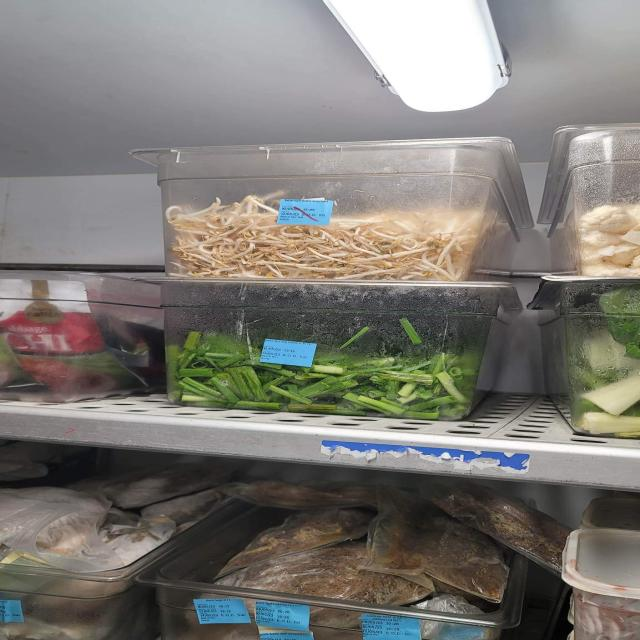product-labels: (253, 600, 312, 631), (260, 338, 316, 368), (361, 614, 421, 640), (276, 199, 333, 225), (194, 598, 251, 624)
